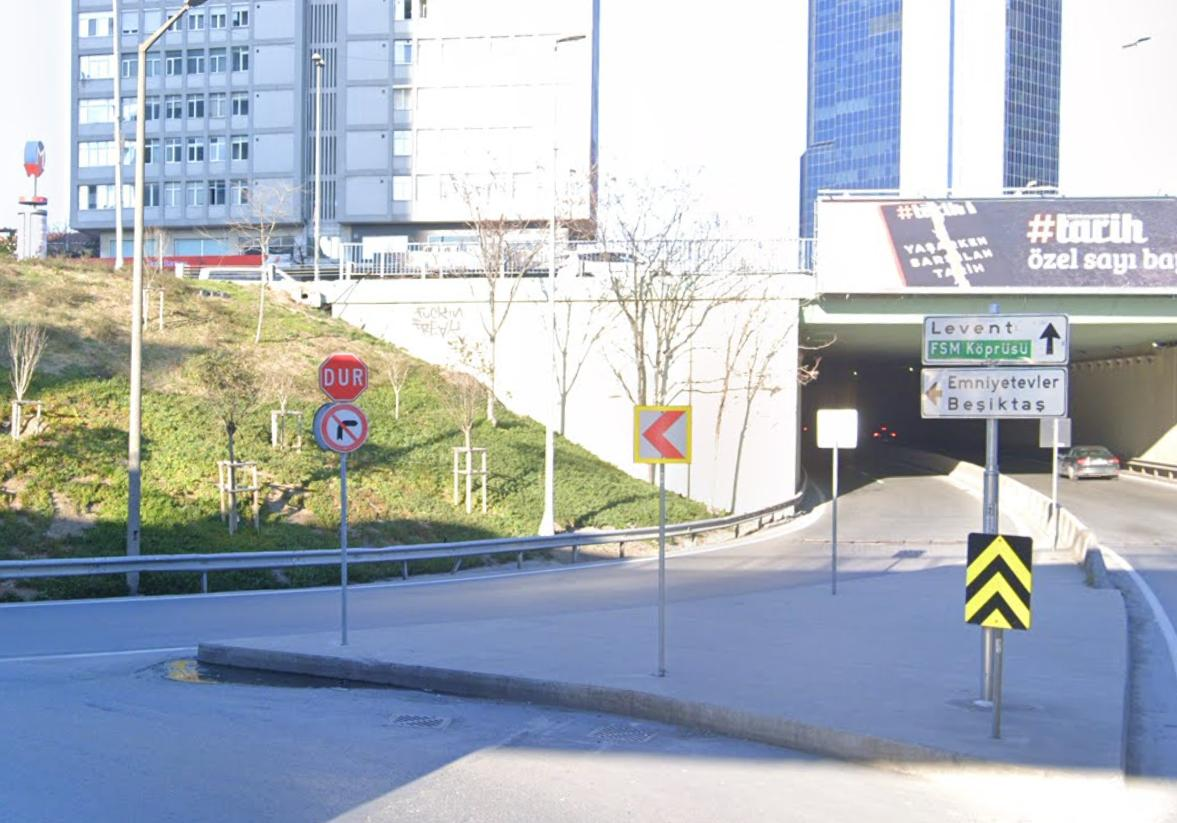rightturnsareforbidden: (324, 404, 365, 447)
stop: (322, 354, 368, 400)
